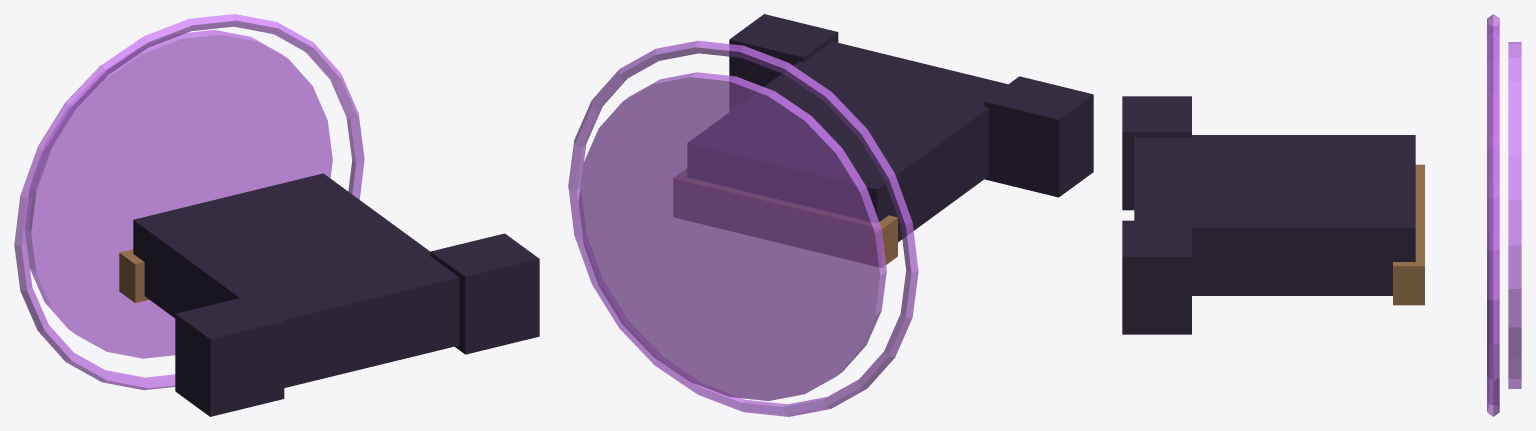
File: armor_pickup_runic_chestplate_epic.glb
3 views of the same model, side by side, from view 1: azimuth 30°, elevation 25°; view 2: azimuth 150°, elevation 25°; view 3: azimuth 270°, elevation 25° (orthographic).
Parts seen in each view (by area): view 1: rarity_base_disc, torso_plate, left_pauldron, rarity_orbit_ring, right_pauldron, belt; view 2: rarity_base_disc, torso_plate, rarity_orbit_ring, left_pauldron, belt, right_pauldron; view 3: torso_plate, right_pauldron, rarity_orbit_ring, rarity_base_disc, left_pauldron, belt.
Boxes of the visible parts, left/top/right/bottom form: rarity_base_disc: left=25, top=30, right=332, bottom=358; torso_plate: left=133, top=173, right=459, bottom=387; left_pauldron: left=175, top=295, right=284, bottom=416; rarity_orbit_ring: left=14, top=14, right=364, bottom=390; right_pauldron: left=430, top=233, right=539, bottom=354; belt: left=119, top=249, right=149, bottom=302; rarity_base_disc: left=578, top=72, right=886, bottom=400; torso_plate: left=688, top=41, right=1007, bottom=242; rarity_orbit_ring: left=568, top=40, right=918, bottom=416; left_pauldron: left=984, top=76, right=1093, bottom=197; belt: left=674, top=169, right=897, bottom=267; right_pauldron: left=729, top=14, right=838, bottom=110; torso_plate: left=1134, top=135, right=1415, bottom=295; right_pauldron: left=1122, top=220, right=1191, bottom=334; rarity_orbit_ring: left=1487, top=14, right=1499, bottom=416; rarity_base_disc: left=1508, top=42, right=1521, bottom=388; left_pauldron: left=1122, top=96, right=1191, bottom=210; belt: left=1393, top=164, right=1424, bottom=305.
Bounding box in the file's own units: 1.51 × 1.51 × 1.49.
